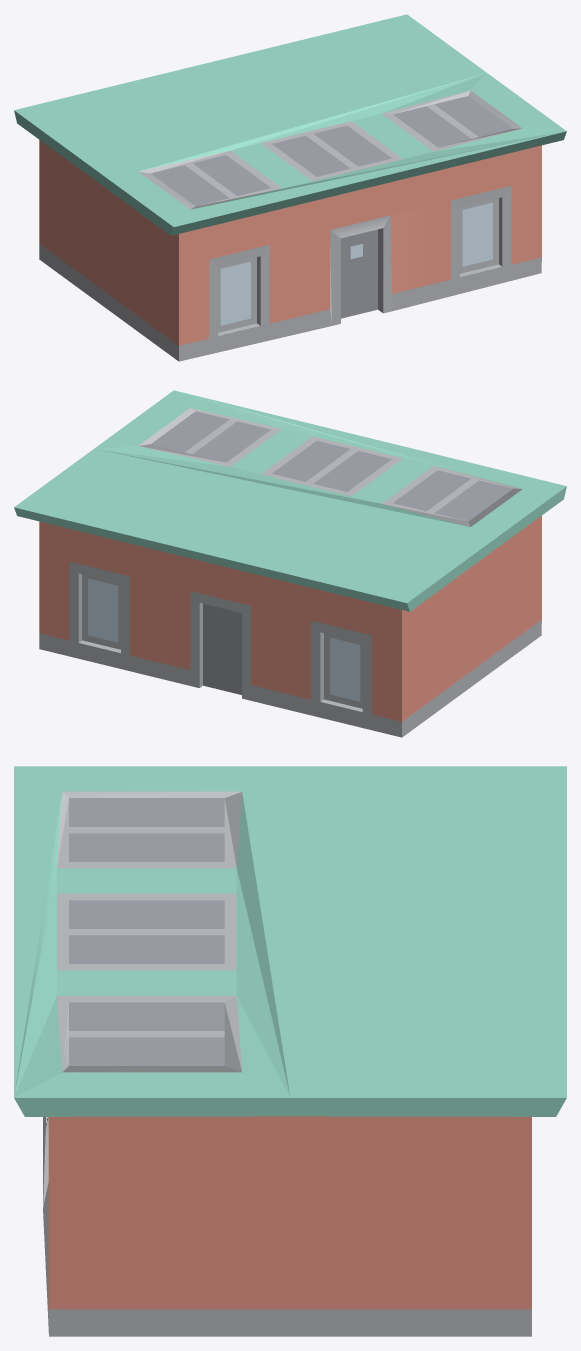
The model's file is house_type01mod.fbx.
3 views of the same model, one above another, from view 1: azimuth 30°, elevation 25°; view 2: azimuth 150°, elevation 25°; view 3: azimuth 270°, elevation 25° (orthographic). The views are drawn at different scales.
Visible parts, largest first — view 1: house_type01; view 2: house_type01; view 3: house_type01.
Part boxes in pixels (x1=…): house_type01: x1=14, y1=14, x2=566, y2=361; house_type01: x1=14, y1=390, x2=566, y2=737; house_type01: x1=14, y1=766, x2=566, y2=1336.
Bounding box in the file's own units: 130 × 45.98 × 91.6.
